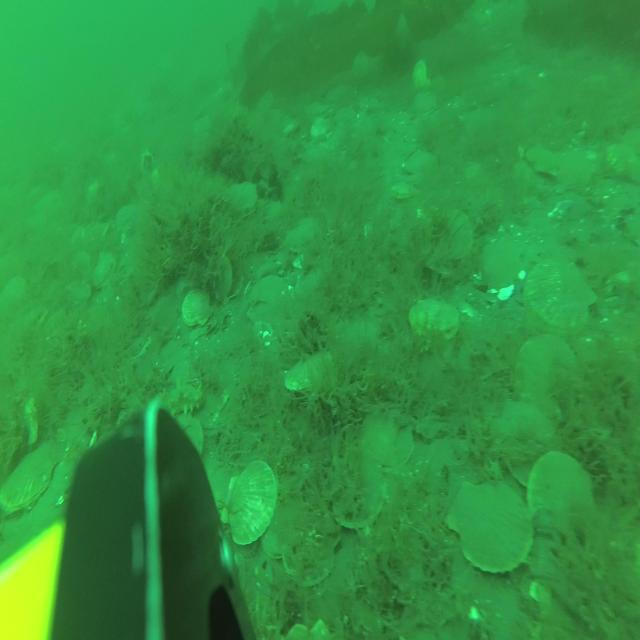holothurian: (148, 388, 205, 426)
scallop: (449, 478, 534, 581), (493, 392, 563, 492), (529, 446, 596, 546), (517, 328, 582, 422), (526, 254, 596, 334), (323, 451, 385, 534), (222, 464, 280, 550), (1, 441, 62, 516), (260, 477, 309, 561), (284, 508, 336, 584), (360, 407, 415, 478), (410, 293, 460, 349), (429, 208, 475, 268), (284, 353, 336, 404), (479, 232, 522, 293), (156, 336, 192, 401), (555, 150, 594, 194), (180, 291, 216, 328), (205, 255, 234, 298), (228, 177, 257, 220), (526, 143, 558, 181), (406, 148, 436, 182), (91, 254, 117, 292), (3, 276, 28, 315), (115, 204, 140, 238), (68, 278, 91, 312), (412, 88, 437, 116), (390, 176, 416, 201), (412, 61, 430, 94)
